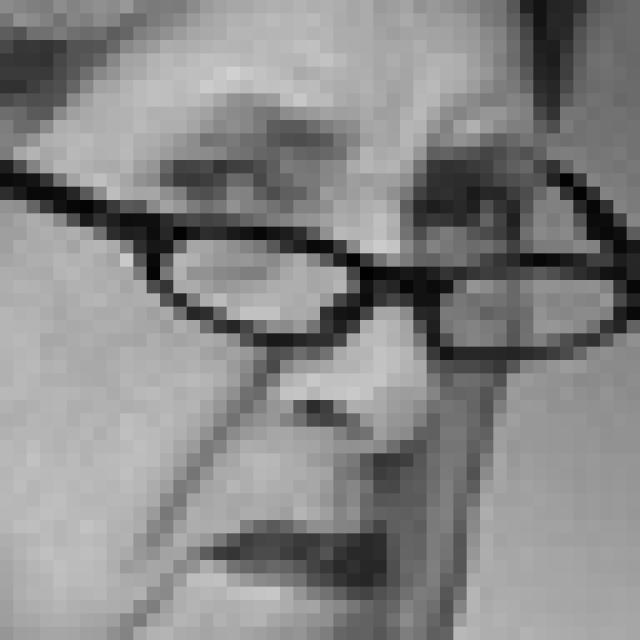disgust: (121, 87, 532, 640)
